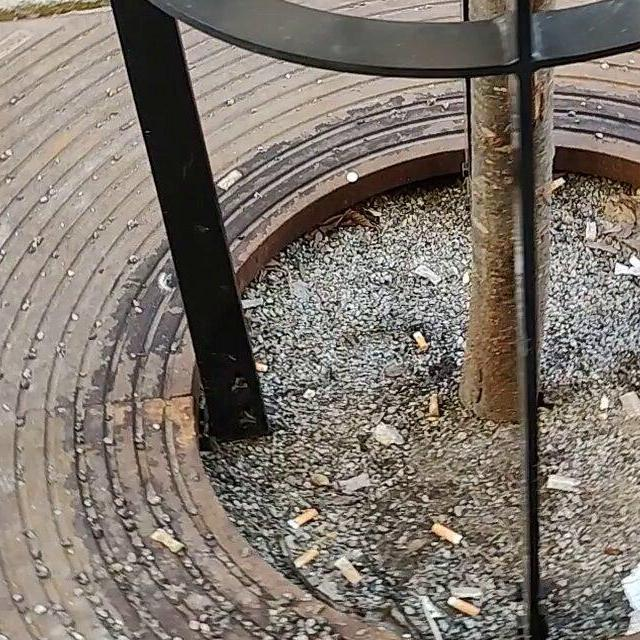Cigarette Butt: (446, 592, 476, 618), (433, 522, 462, 545), (339, 556, 357, 584), (290, 510, 315, 528), (412, 328, 430, 353), (547, 179, 570, 195), (297, 545, 314, 563)
